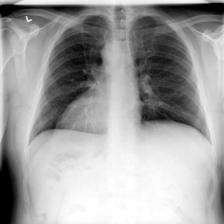normal: (21, 10, 216, 154)
